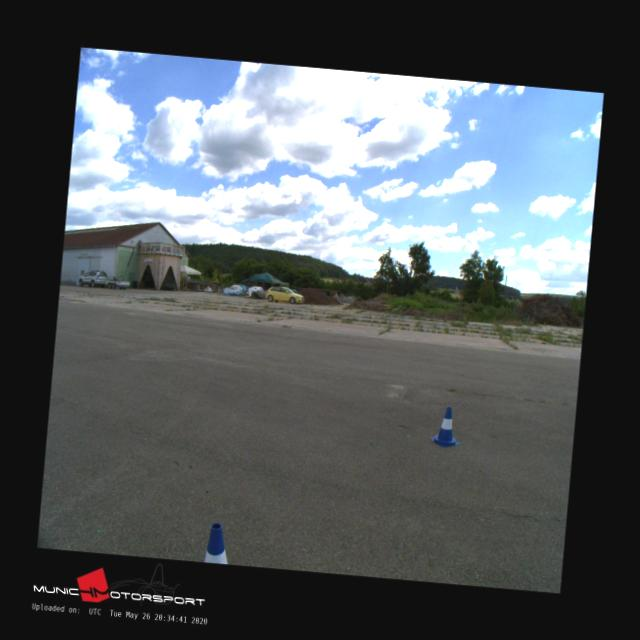blue_cone: (429, 405, 462, 447)
